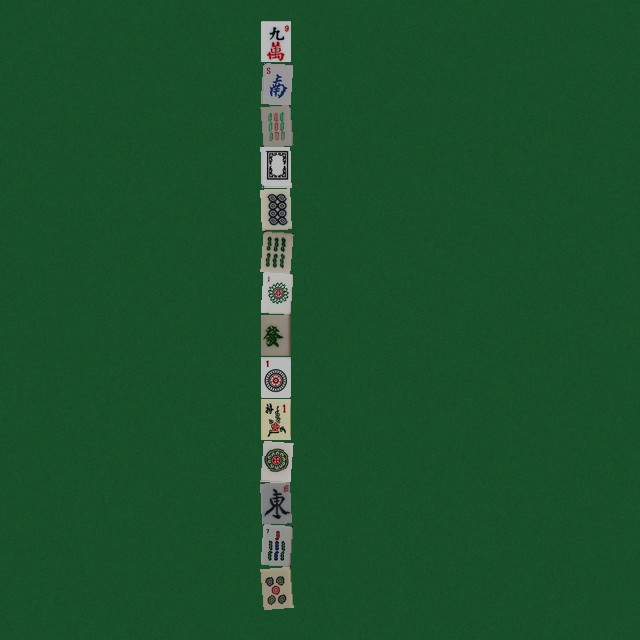tile: (260, 20, 290, 61), (260, 62, 290, 103), (260, 104, 290, 145), (260, 146, 290, 187), (260, 188, 290, 229), (260, 230, 290, 271), (260, 272, 290, 313), (260, 314, 290, 355), (260, 356, 290, 397), (260, 398, 290, 439), (260, 440, 290, 481), (260, 482, 290, 523), (260, 524, 290, 565), (260, 566, 290, 607)
